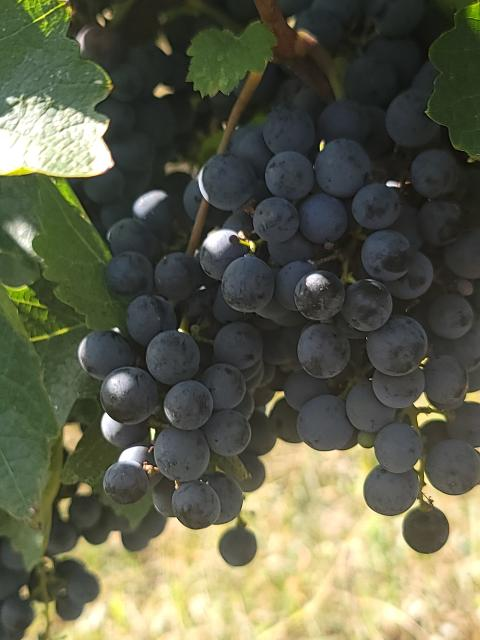grapes: (254, 0, 480, 552), (79, 190, 272, 529)
